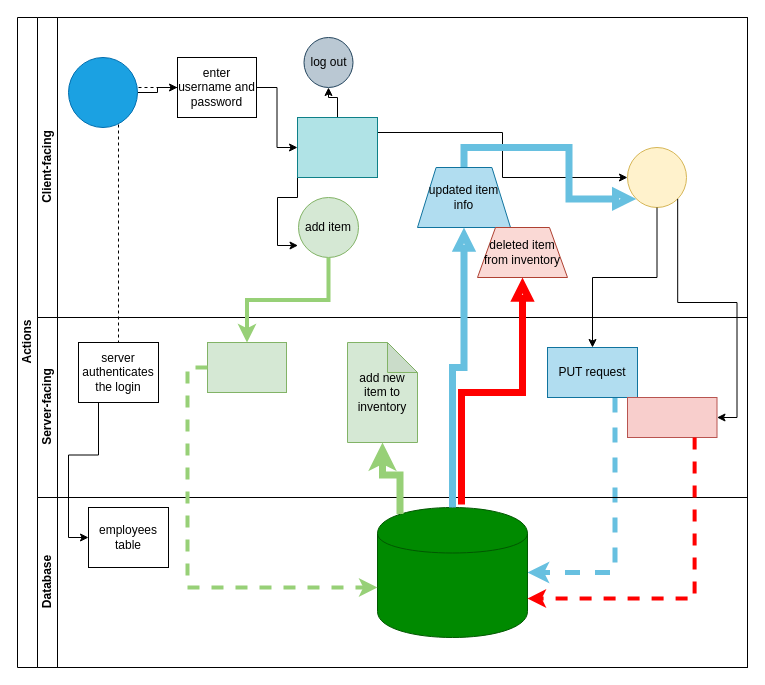
Some shapes in this 765 by 685 pixel diagram are drawn without their labels. The box of each missing label's shape, as (x1, y1, x2, y2) in pixels:
arrive to log in page: (68, 56, 138, 128)
DELETE request: (626, 396, 717, 438)
edit list: (626, 146, 686, 208)
home page: (296, 116, 378, 178)
inventory table: (376, 506, 528, 638)
POST request: (206, 342, 286, 392)
